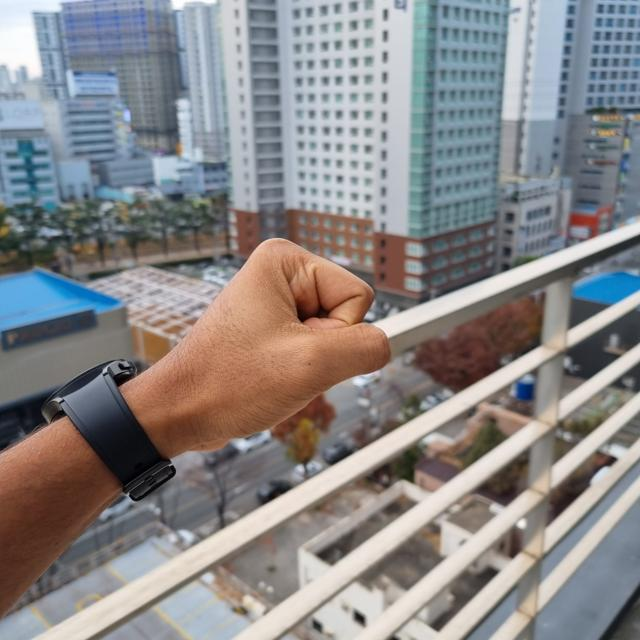Rock: (127, 239, 390, 449)
